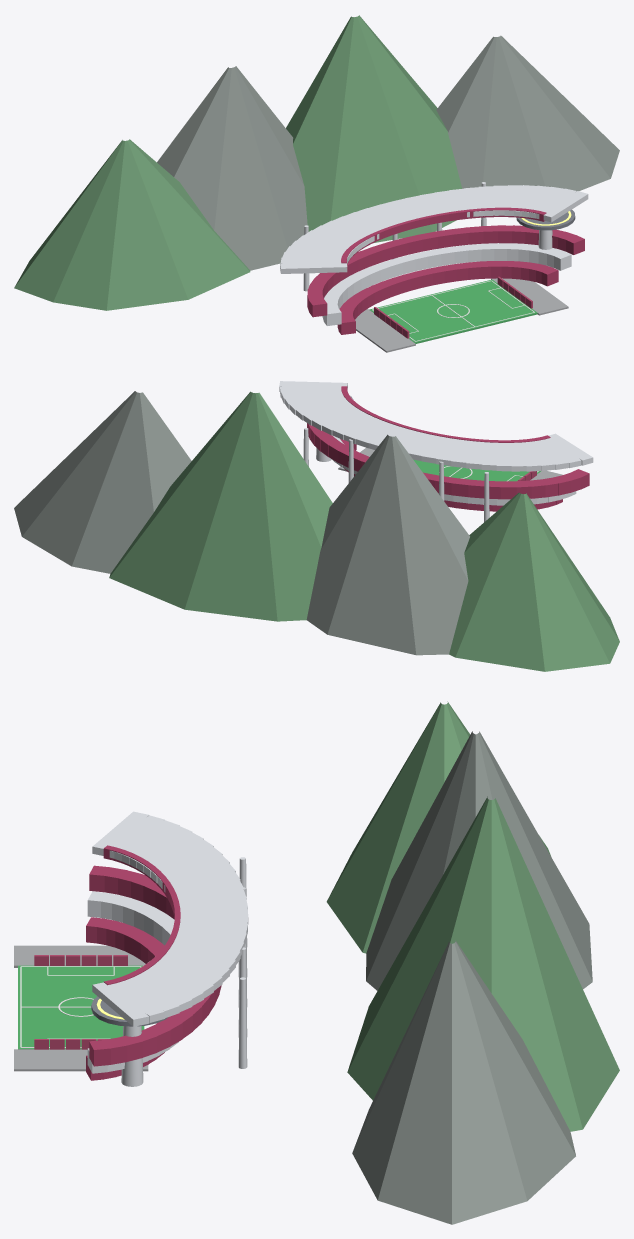
Rendered from SM_Stage_Avila_VE.glb.
The picture shows the model from 3 angles, top to bottom: view 1: azimuth 30°, elevation 25°; view 2: azimuth 150°, elevation 25°; view 3: azimuth 270°, elevation 25°; orthographic projection. The views are drawn at different scales.
Visible parts, largest first — view 1: SM_Stage_Avila_VE; view 2: SM_Stage_Avila_VE; view 3: SM_Stage_Avila_VE.
Part boxes in pixels (x1,y1,x2,y2): SM_Stage_Avila_VE: (14, 15, 619, 352); SM_Stage_Avila_VE: (14, 381, 619, 671); SM_Stage_Avila_VE: (14, 701, 619, 1224).
Size of the model in its own units: 121 by 36 by 76.76.
